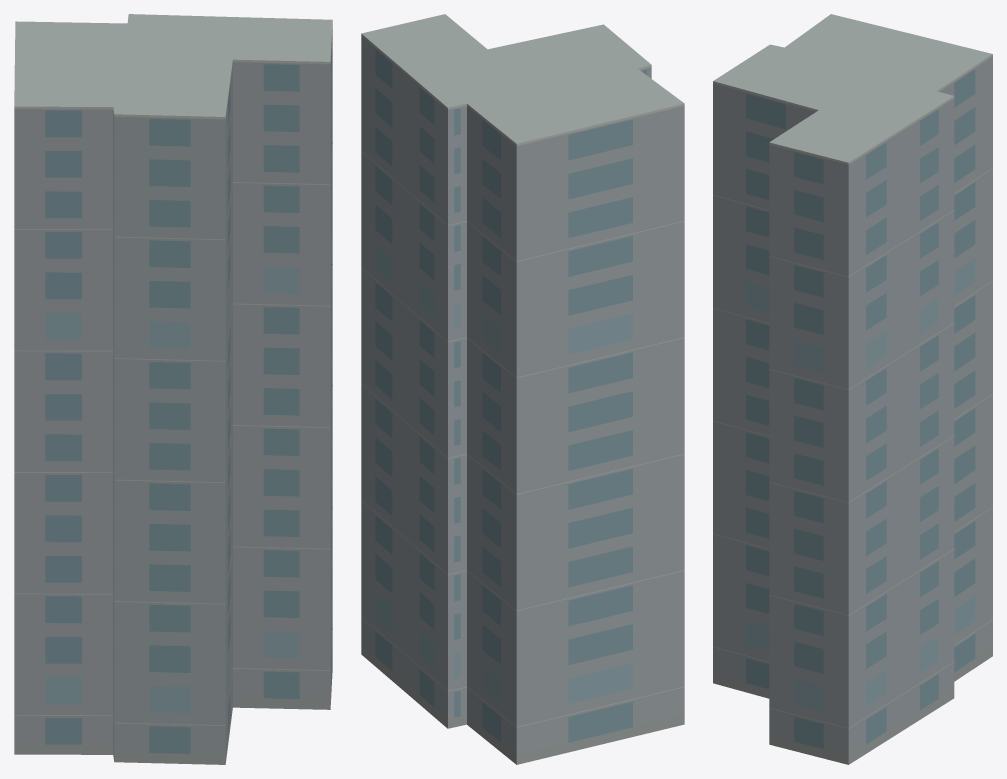
The model's file is residential-84155c8f-a572-4ec3-a505-77570737b69e.glb.
The picture shows the model from 3 angles, left to right: view 1: azimuth 30°, elevation 25°; view 2: azimuth 150°, elevation 25°; view 3: azimuth 270°, elevation 25°; orthographic projection. The views are drawn at different scales.
Parts seen in each view (by area): view 1: residential-84155c8f-a572-4ec3-a505-77570737b69e.tmp; view 2: residential-84155c8f-a572-4ec3-a505-77570737b69e.tmp; view 3: residential-84155c8f-a572-4ec3-a505-77570737b69e.tmp.
Boxes of the visible parts, x1,y1,x2,y2 form: residential-84155c8f-a572-4ec3-a505-77570737b69e.tmp: [14, 14, 332, 764]; residential-84155c8f-a572-4ec3-a505-77570737b69e.tmp: [361, 14, 684, 764]; residential-84155c8f-a572-4ec3-a505-77570737b69e.tmp: [713, 14, 992, 764].
Bounding box in the file's own units: 34.98 × 66 × 27.81.
